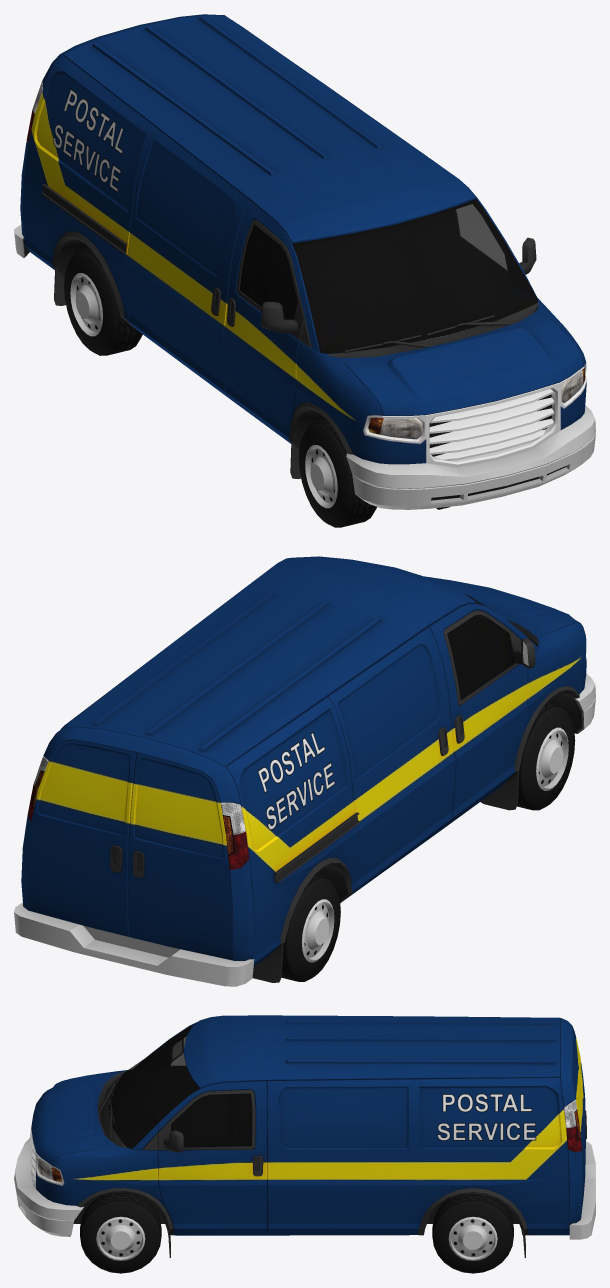
Rendered from postvan.glb.
The picture shows the model from 3 angles, top to bottom: view 1: azimuth 30°, elevation 25°; view 2: azimuth 150°, elevation 25°; view 3: azimuth 270°, elevation 25°; orthographic projection. The views are drawn at different scales.
Visible parts, largest first — view 1: postvan_postvan_0, postvan_postvan_glass_0, postvan_postvan_decal_0, postvan_optics_tex_0; view 2: postvan_postvan_0, postvan_postvan_glass_0, postvan_postvan_decal_0, postvan_optics_tex_0; view 3: postvan_postvan_0, postvan_postvan_glass_0, postvan_postvan_decal_0, postvan_optics_tex_0.
Boxes of the visible parts, x1,y1,x2,y2 form: postvan_postvan_0: (14, 14, 595, 527); postvan_postvan_glass_0: (239, 199, 537, 353); postvan_postvan_decal_0: (53, 89, 123, 192); postvan_optics_tex_0: (26, 81, 585, 439); postvan_postvan_0: (14, 556, 595, 986); postvan_postvan_glass_0: (447, 593, 538, 699); postvan_postvan_decal_0: (257, 732, 334, 830); postvan_optics_tex_0: (27, 756, 249, 870); postvan_postvan_0: (14, 1015, 595, 1273); postvan_postvan_glass_0: (108, 1023, 252, 1148); postvan_postvan_decal_0: (437, 1093, 536, 1140); postvan_optics_tex_0: (38, 1100, 581, 1182).
Size of the model in its own units: 2.13 by 1.93 by 5.2.
Materials: 4 (4 with a texture image).
